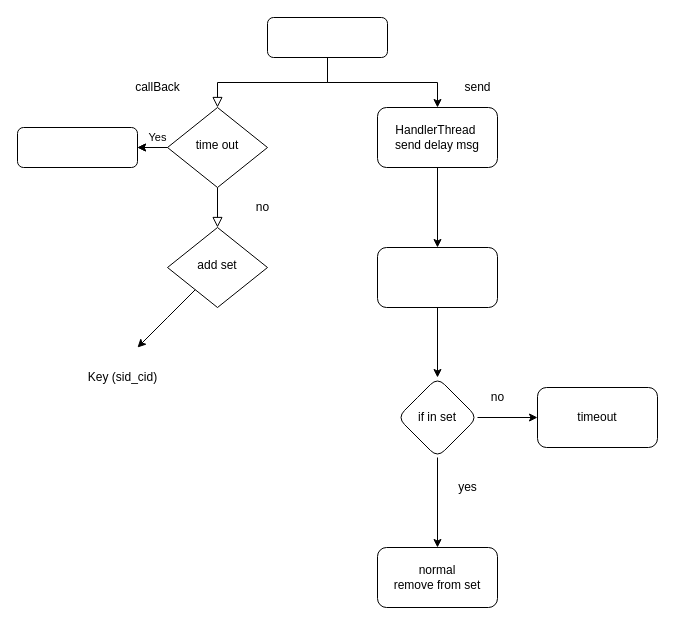
Some shapes in this 675 by 625 pixel diagram are drawn without their labels. The centre of each missing label's shape, as x and y in pixels:
msg callback: the point at 437,277
nothing: the point at 77,147
tcp send: the point at 327,37
